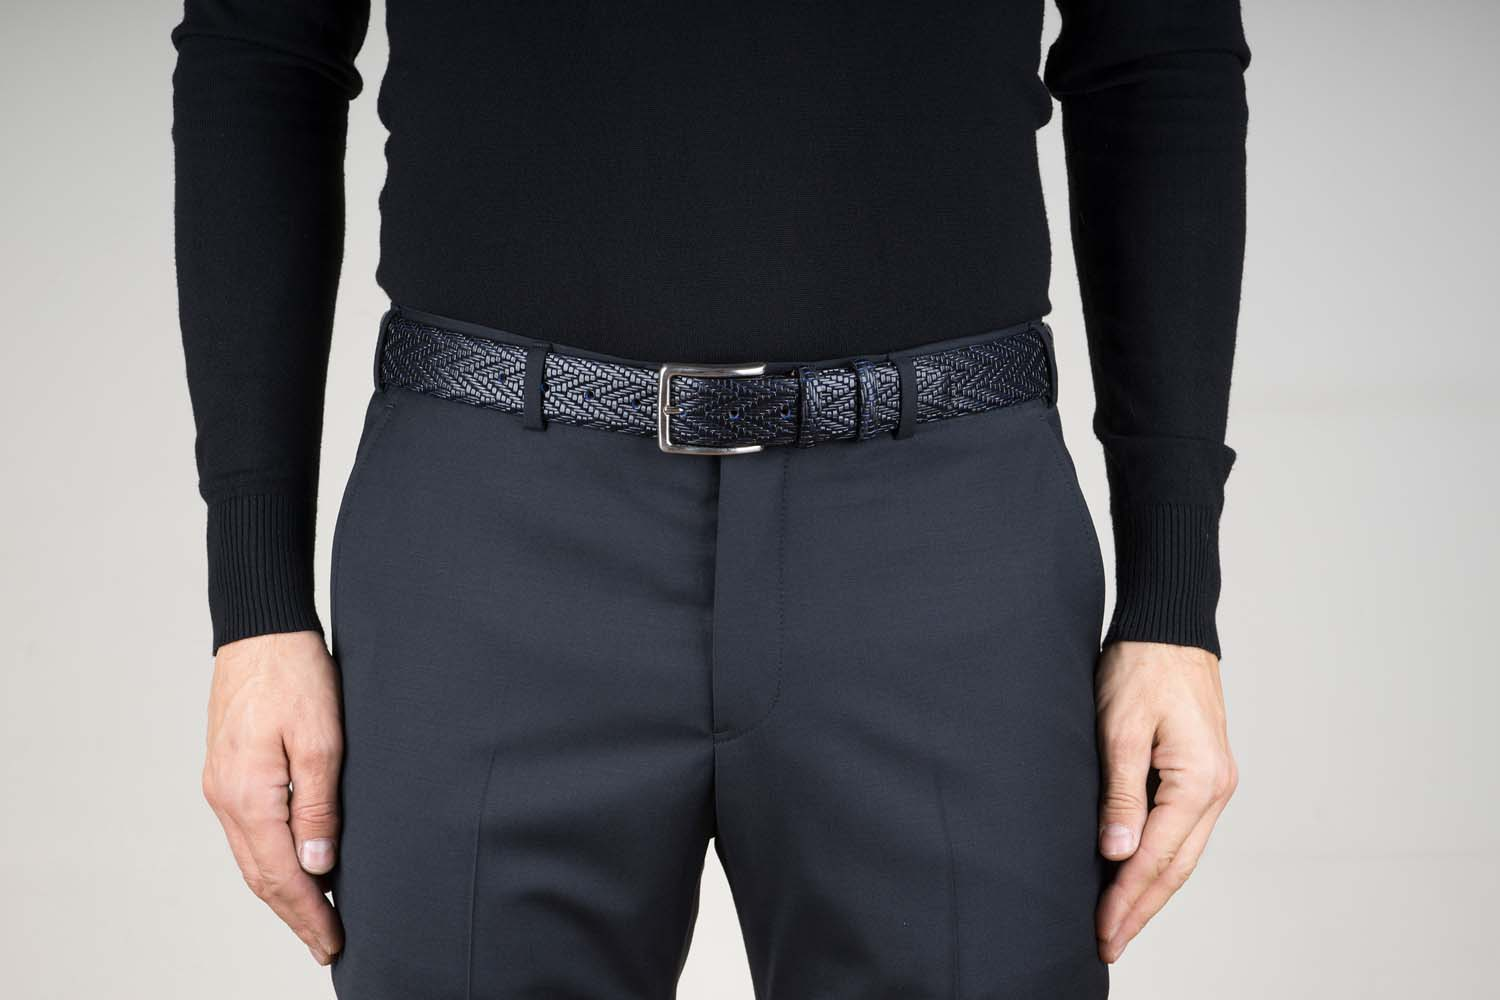C_long sleeve: (186, 1, 1254, 652)
F_belt: (415, 309, 1044, 460)
F_dress pants: (367, 311, 1131, 974)
